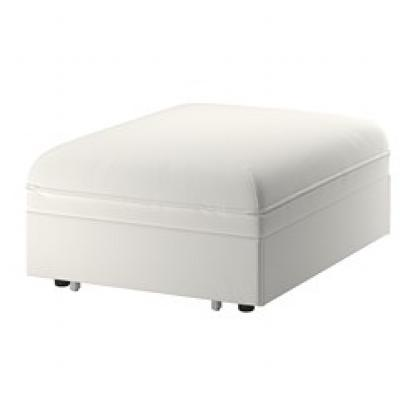Sofa: (16, 63, 392, 315)
